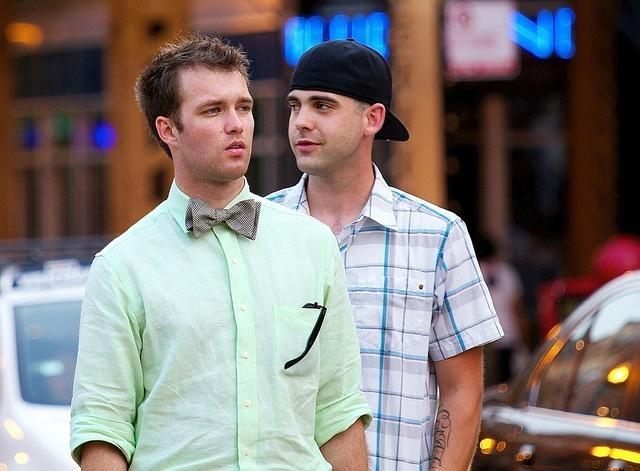car: (466, 264, 640, 467), (0, 253, 95, 471)
